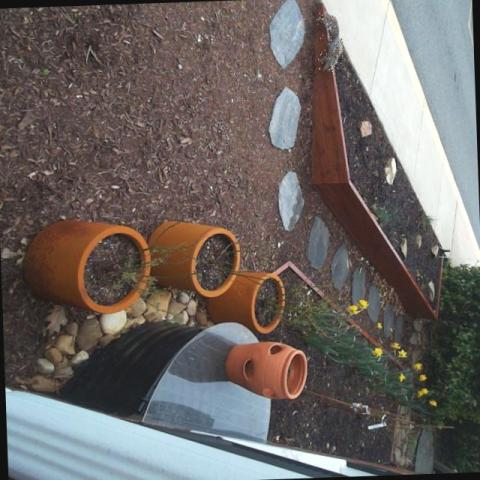small_animal: (312, 13, 344, 73)
